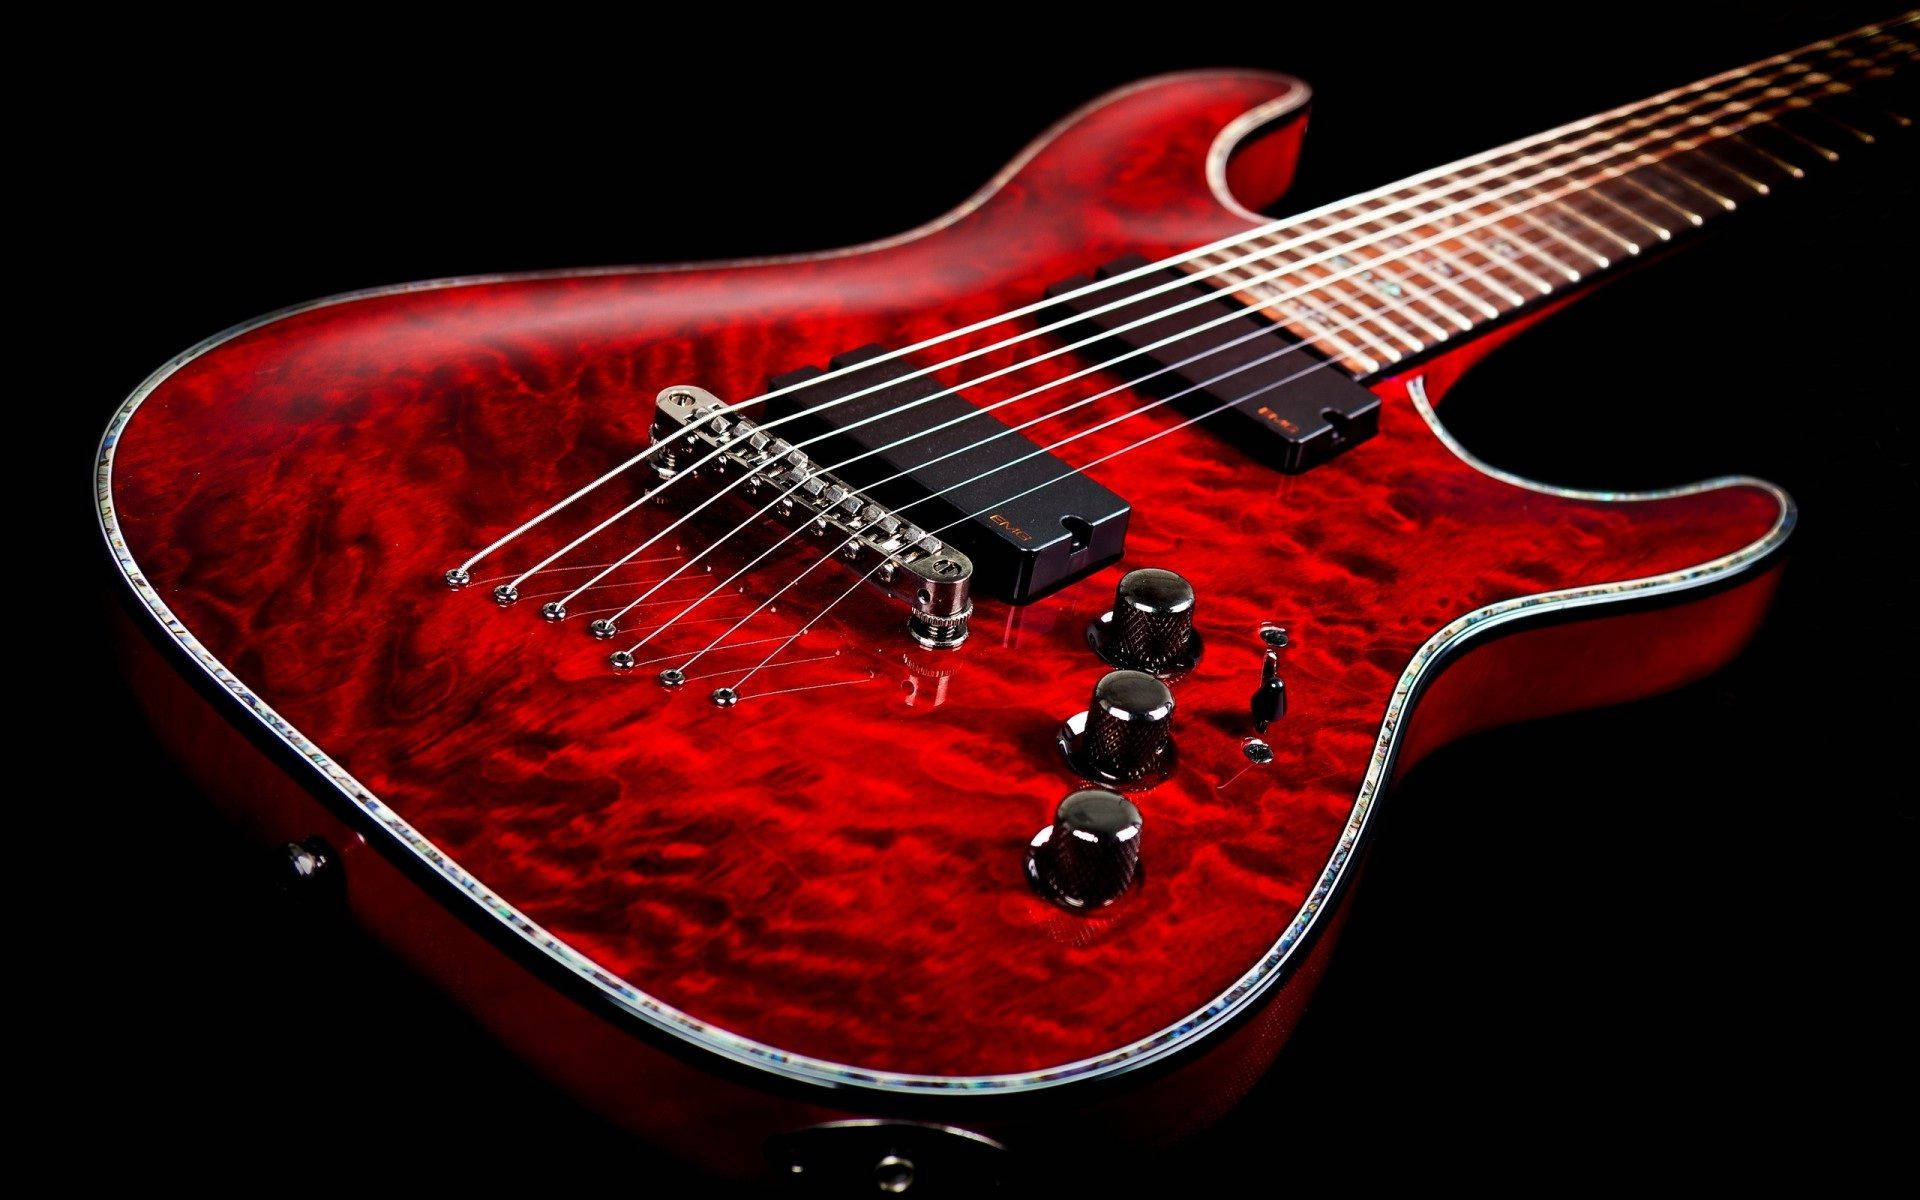guitar: (28, 4, 1920, 1172)
